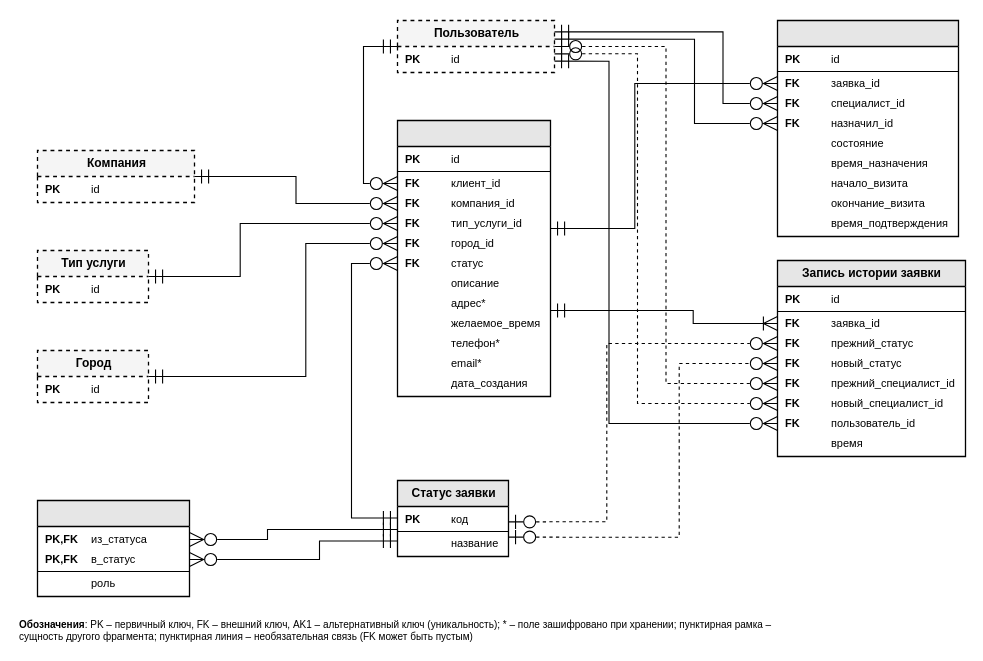
Some shapes in this 983 by 661 pixel diagram are drawn without their labels. Here are the shapes that lost their labels. From the top down, the box of each, then its label:
(776, 19, 959, 237): Назначение
(396, 119, 551, 397): Заявка
(36, 499, 190, 597): Допустимый переход
